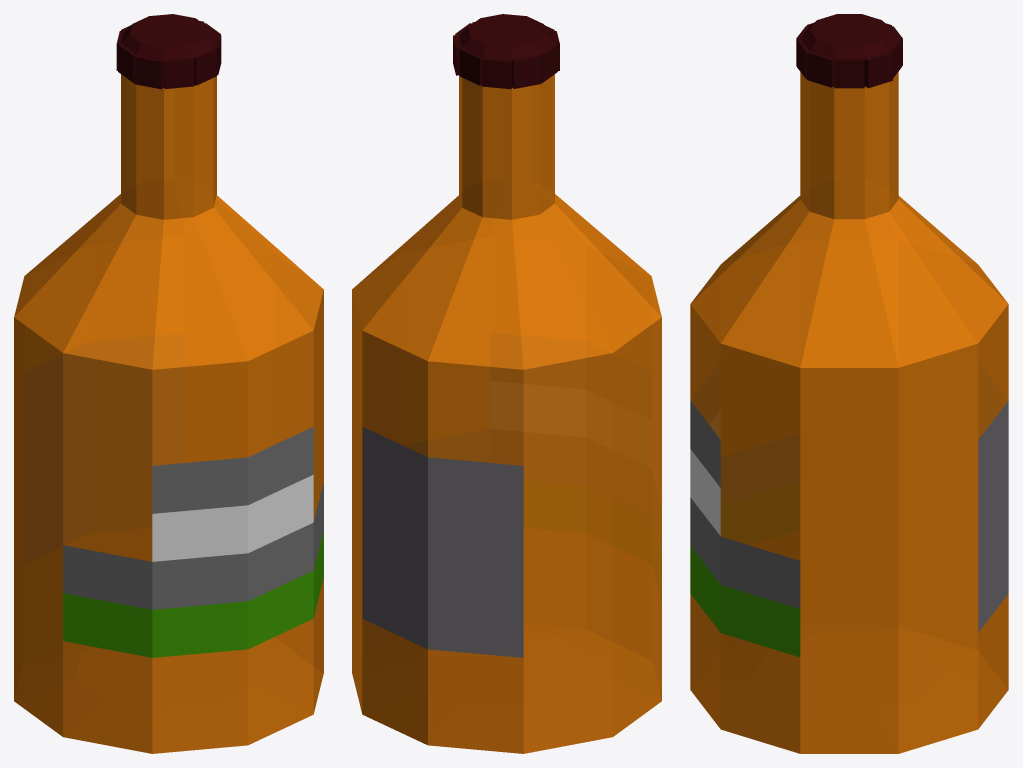
The model's file is cider.fbx.
3 views of the same model, side by side, from view 1: azimuth 30°, elevation 25°; view 2: azimuth 150°, elevation 25°; view 3: azimuth 270°, elevation 25° (orthographic).
Parts seen in each view (by area): view 1: Cylinder; view 2: Cylinder; view 3: Cylinder.
Part boxes in pixels (<box>): Cylinder: <box>14,14,323,753</box>; Cylinder: <box>352,14,661,753</box>; Cylinder: <box>690,14,1008,753</box>.
Bounding box in the file's own units: 190 × 458 × 200.
